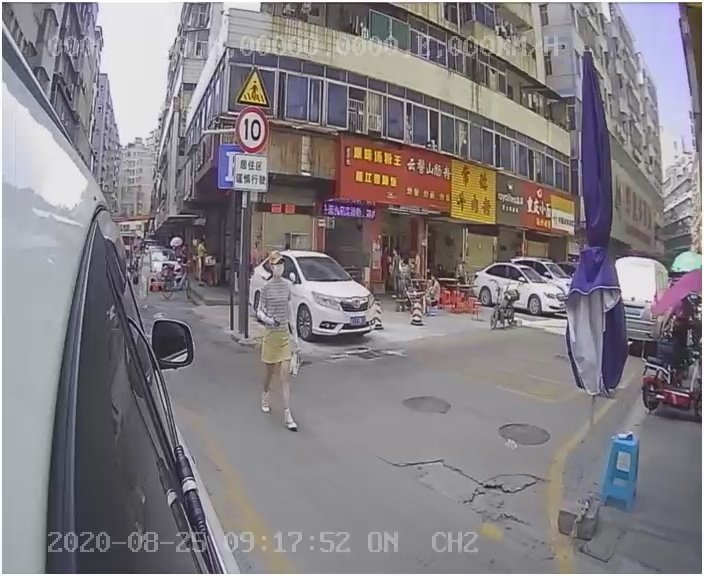person: (250, 253, 311, 440)
